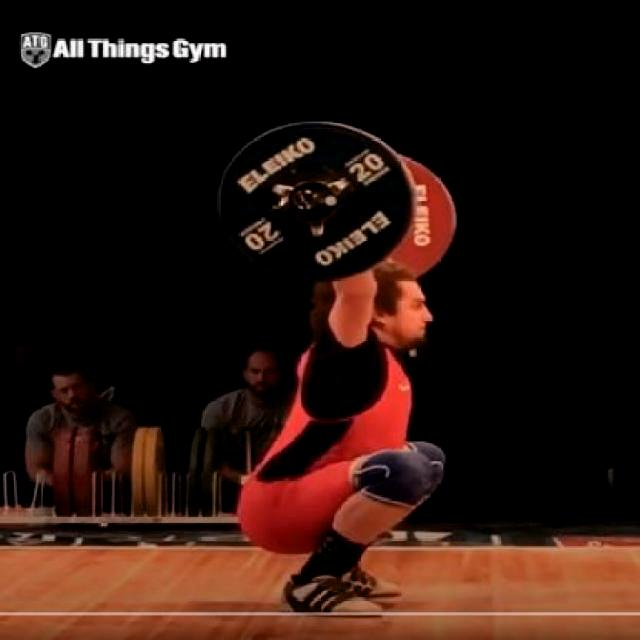barbell: (211, 116, 425, 290)
